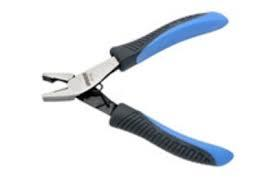pliers: (40, 9, 233, 165)
